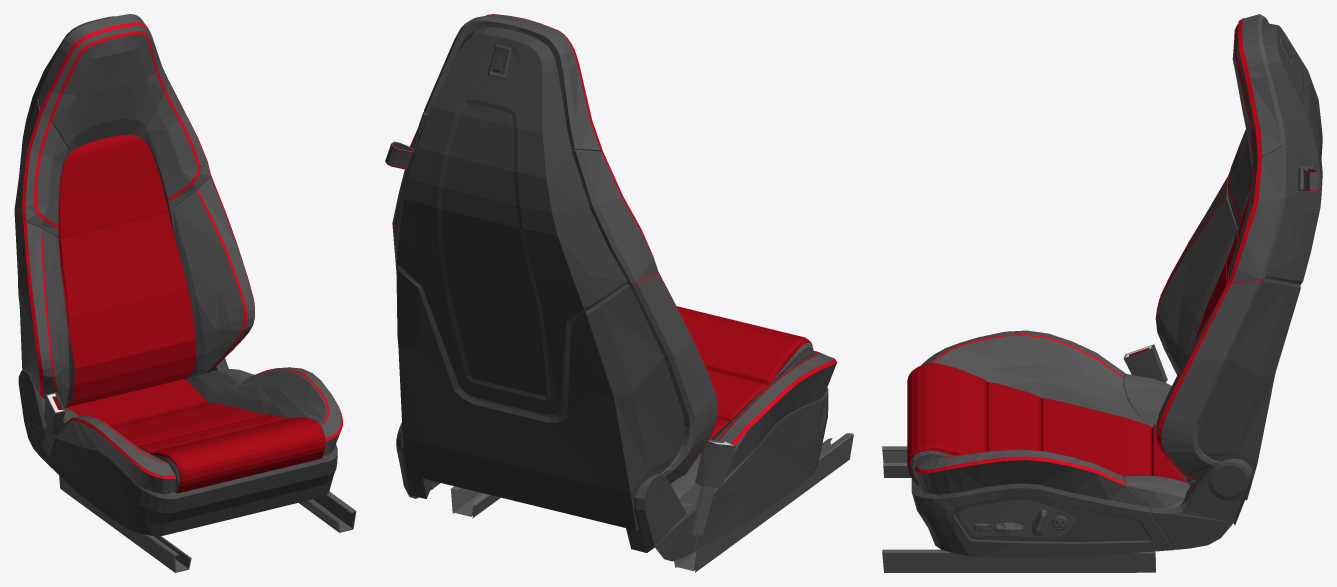
Rendered from seat_FL.glb.
3 views of the same model, side by side, from view 1: azimuth 30°, elevation 25°; view 2: azimuth 150°, elevation 25°; view 3: azimuth 270°, elevation 25° (orthographic). The views are drawn at different scales.
Visible parts, largest first — view 1: TwiXeR_992_seat_FL_TwiXeR_992_seat_leather.004_0, TwiXeR_992_seat_FL_TwiXeR_992_seat_leather_2.001_0, TwiXeR_992_seat_FL_TwiXeR_992_plastic.004_0, TwiXeR_992_seat_FL_TwiXeR_992_ID03_stitch_001_111111FF.006_0, TwiXeR_992_seat_FL_TwiXeR_992_int_chrome.007_0, TwiXeR_992_seat_FL_TwiXeR_992_ID05_leather_coarse_mgl_FFFFFF; view 2: TwiXeR_992_seat_FL_TwiXeR_992_plastic.004_0, TwiXeR_992_seat_FL_TwiXeR_992_seat_leather.004_0, TwiXeR_992_seat_FL_TwiXeR_992_seat_leather_2.001_0, TwiXeR_992_seat_FL_TwiXeR_992_int_chrome.007_0, TwiXeR_992_seat_FL_TwiXeR_992_ID03_stitch_001_111111FF.006_0, TwiXeR_992_seat_FL_TwiXeR_992_ID05_leather_coarse_mgl_FFFFFF; view 3: TwiXeR_992_seat_FL_TwiXeR_992_seat_leather.004_0, TwiXeR_992_seat_FL_TwiXeR_992_plastic.004_0, TwiXeR_992_seat_FL_TwiXeR_992_seat_leather_2.001_0, TwiXeR_992_seat_FL_TwiXeR_992_int_chrome.007_0, TwiXeR_992_seat_FL_TwiXeR_992_ID03_stitch_001_111111FF.006_0, TwiXeR_992_seat_FL_TwiXeR_992_ID05_leather_coarse_mgl_FFFFFF.
Boxes of the visible parts, x1=… form: TwiXeR_992_seat_FL_TwiXeR_992_seat_leather.004_0: x1=14, y1=14, x2=341, y2=494; TwiXeR_992_seat_FL_TwiXeR_992_seat_leather_2.001_0: x1=58, y1=135, x2=325, y2=493; TwiXeR_992_seat_FL_TwiXeR_992_plastic.004_0: x1=18, y1=16, x2=337, y2=535; TwiXeR_992_seat_FL_TwiXeR_992_ID03_stitch_001_111111FF.006_0: x1=14, y1=22, x2=342, y2=478; TwiXeR_992_seat_FL_TwiXeR_992_int_chrome.007_0: x1=42, y1=425, x2=356, y2=572; TwiXeR_992_seat_FL_TwiXeR_992_ID05_leather_coarse_mgl_FFFFFF: x1=44, y1=392, x2=65, y2=434; TwiXeR_992_seat_FL_TwiXeR_992_plastic.004_0: x1=396, y1=27, x2=828, y2=561; TwiXeR_992_seat_FL_TwiXeR_992_seat_leather.004_0: x1=385, y1=14, x2=836, y2=507; TwiXeR_992_seat_FL_TwiXeR_992_seat_leather_2.001_0: x1=676, y1=306, x2=812, y2=439; TwiXeR_992_seat_FL_TwiXeR_992_int_chrome.007_0: x1=451, y1=433, x2=853, y2=572; TwiXeR_992_seat_FL_TwiXeR_992_ID03_stitch_001_111111FF.006_0: x1=385, y1=14, x2=837, y2=482; TwiXeR_992_seat_FL_TwiXeR_992_ID05_leather_coarse_mgl_FFFFFF: x1=695, y1=439, x2=735, y2=488; TwiXeR_992_seat_FL_TwiXeR_992_seat_leather.004_0: x1=910, y1=14, x2=1317, y2=508; TwiXeR_992_seat_FL_TwiXeR_992_plastic.004_0: x1=911, y1=23, x2=1322, y2=557; TwiXeR_992_seat_FL_TwiXeR_992_seat_leather_2.001_0: x1=907, y1=195, x2=1249, y2=485; TwiXeR_992_seat_FL_TwiXeR_992_int_chrome.007_0: x1=882, y1=169, x2=1311, y2=572; TwiXeR_992_seat_FL_TwiXeR_992_ID03_stitch_001_111111FF.006_0: x1=915, y1=18, x2=1318, y2=485; TwiXeR_992_seat_FL_TwiXeR_992_ID05_leather_coarse_mgl_FFFFFF: x1=959, y1=344, x2=1167, y2=537.
Size of the model in its own units: 0.4979 by 0.9015 by 0.7278.
